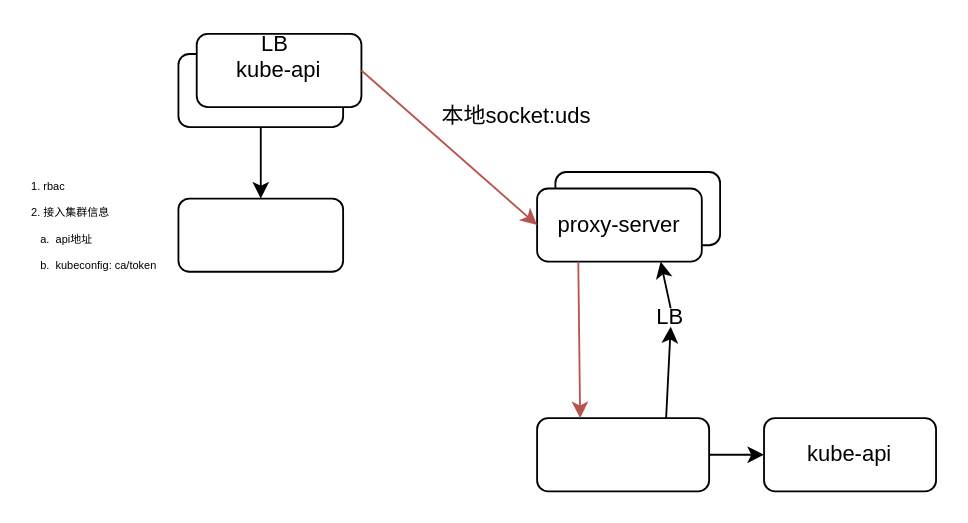
This 968x523 diagram has some shape labels left out. Here are the shapes that lost their labels. From the top down, the centre of each, then its label:
At (260,234): "托管etcd".
At (622,453): "proxy-agent".
